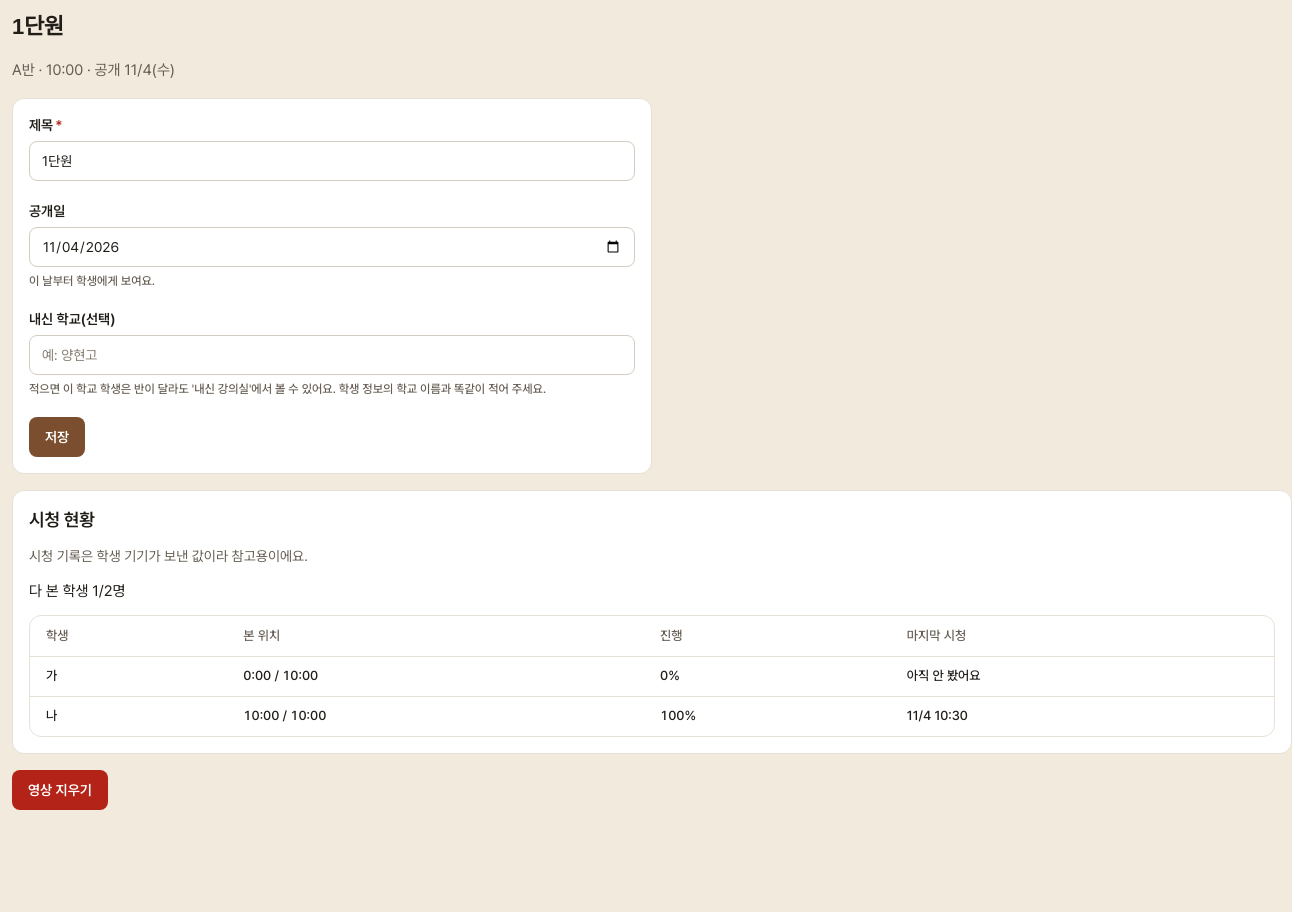
Test: AdminVideoDetailScreen › saves title and published date
The width and height of the screenshot is (1292, 912).
Replace the text in the field labelled "제목*" with "새 제목" at (332, 161), box x1=29 y1=141 x2=635 y2=181
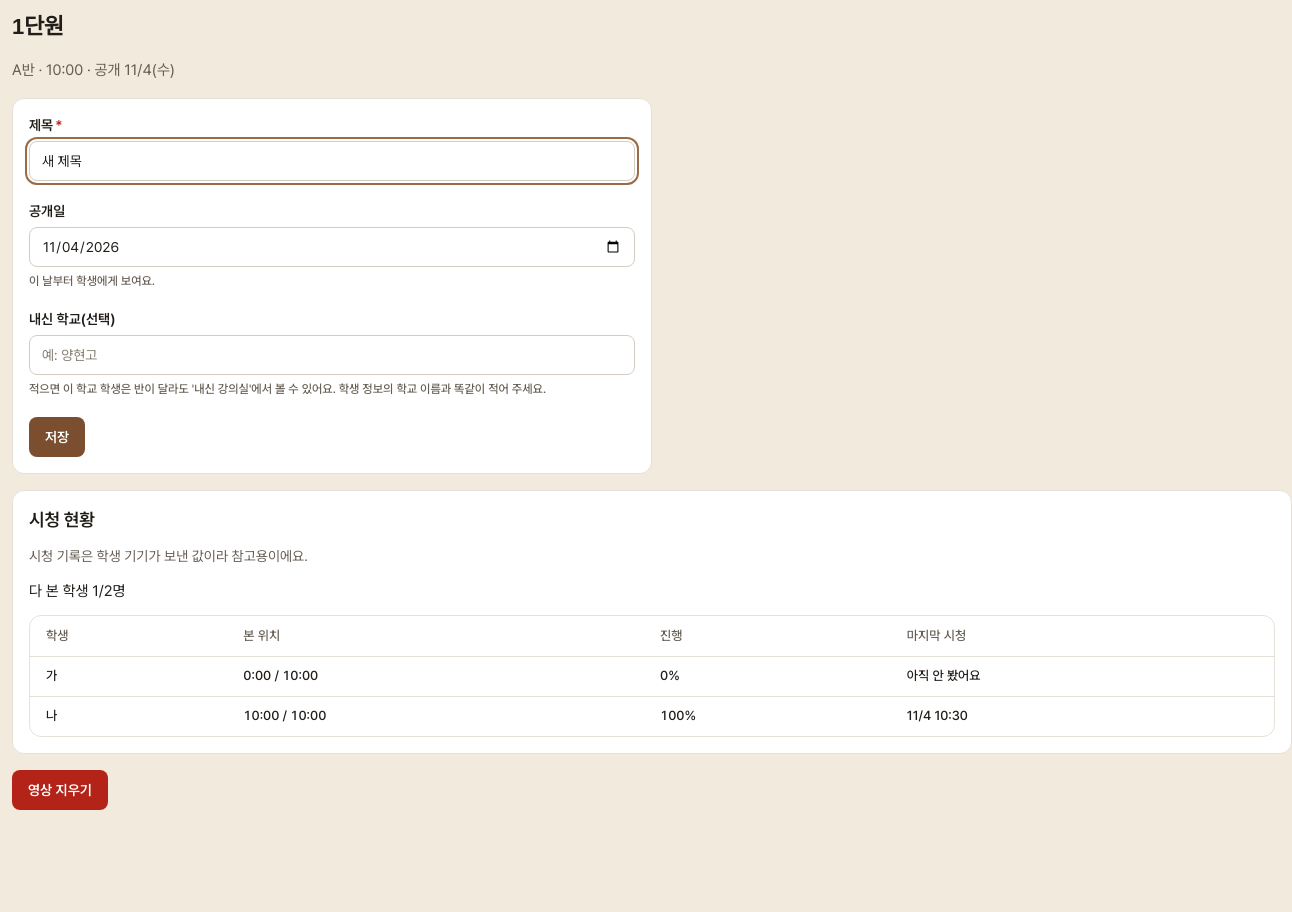
Click the button "저장" at (57, 437), box x1=29 y1=417 x2=85 y2=457
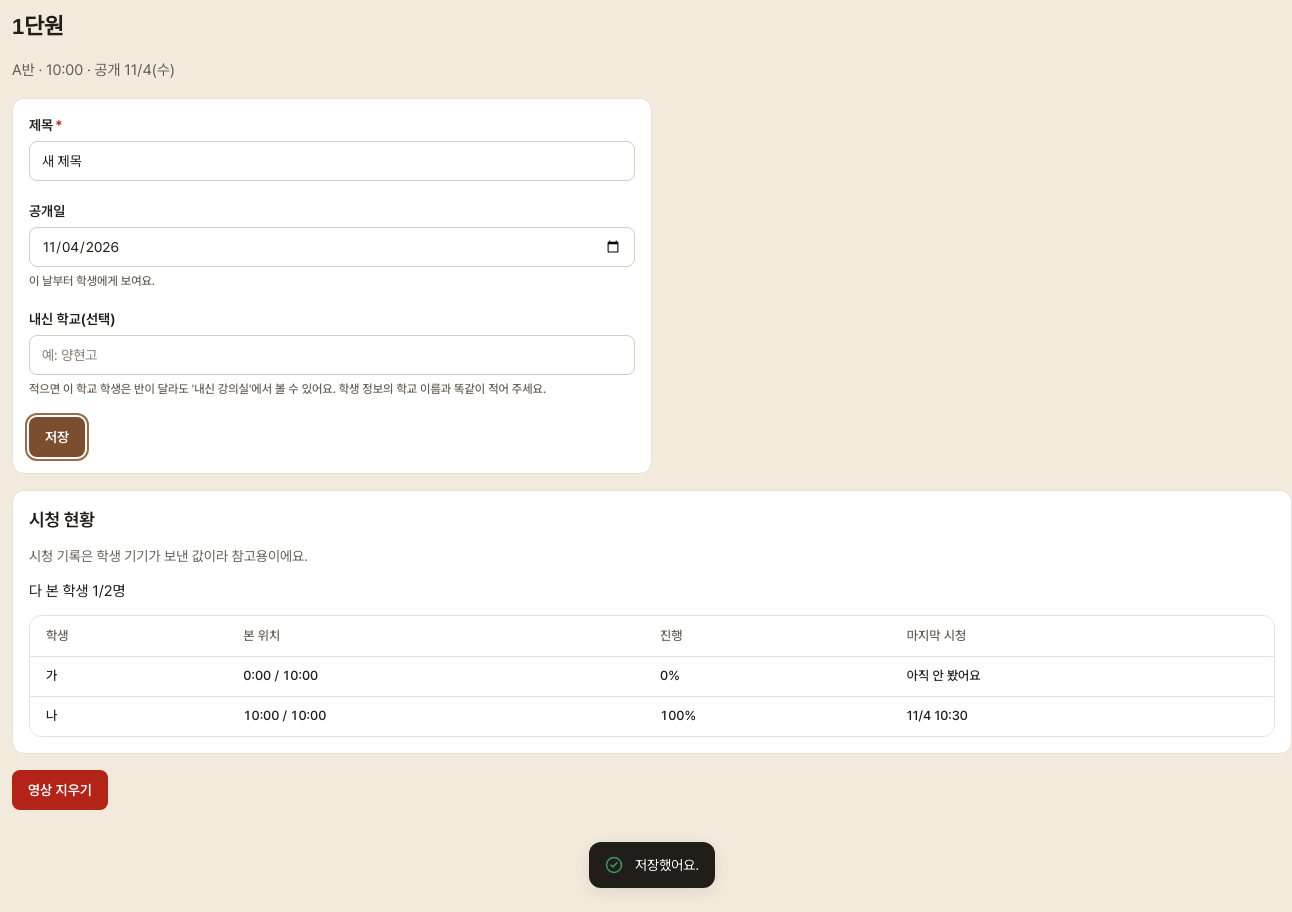
Expected: the text "저장했어요." is shown, x1=635 y1=854 x2=699 y2=876
